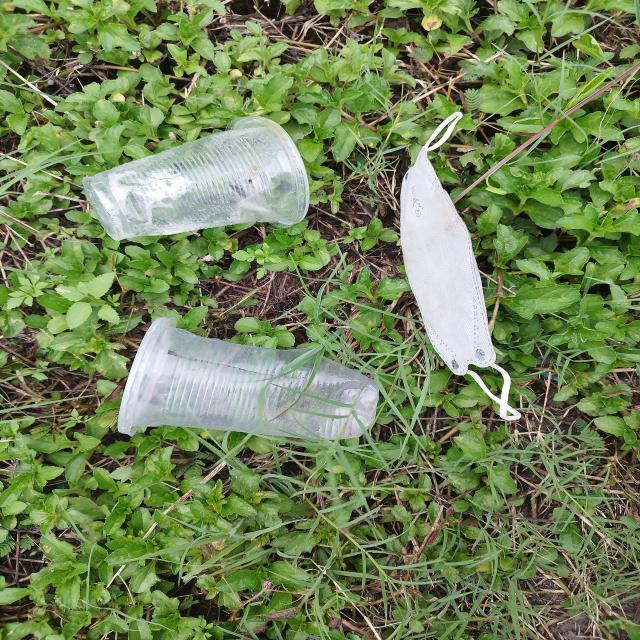mask: (399, 112, 523, 421)
plastic glass: (117, 317, 381, 441), (83, 115, 310, 242)
